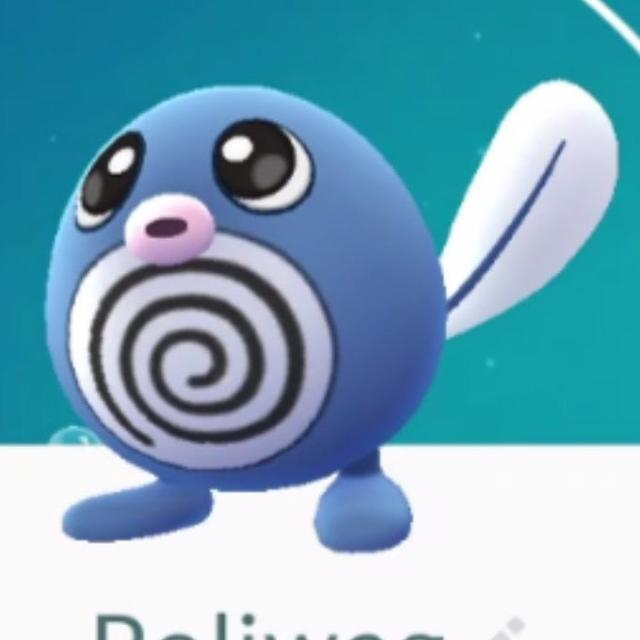Poliwag: (42, 83, 472, 552)
